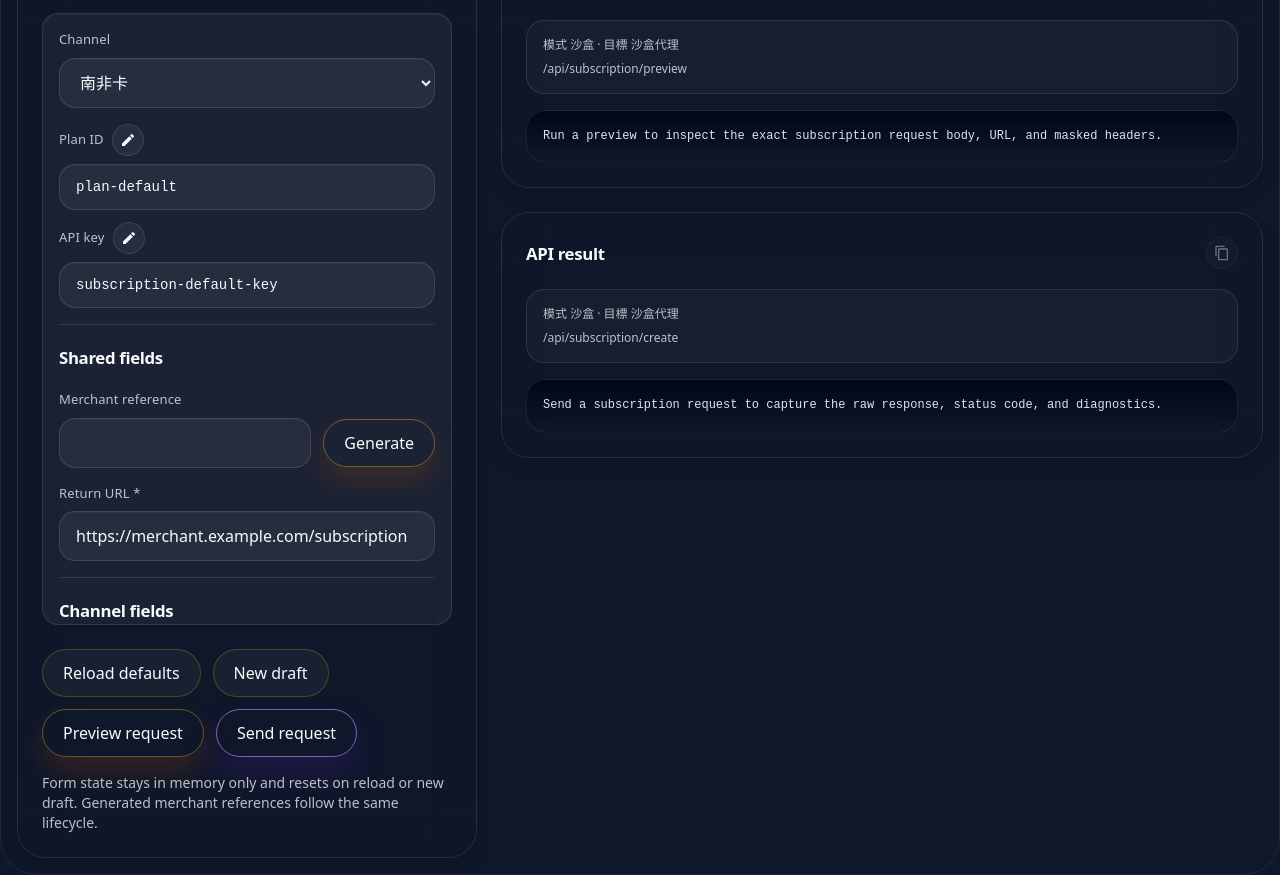
SubscriptionPage › renders preview API failures in the API result panel
(page scrolled)
Click the button "Preview request" at (123, 733), box [42,709,204,757]
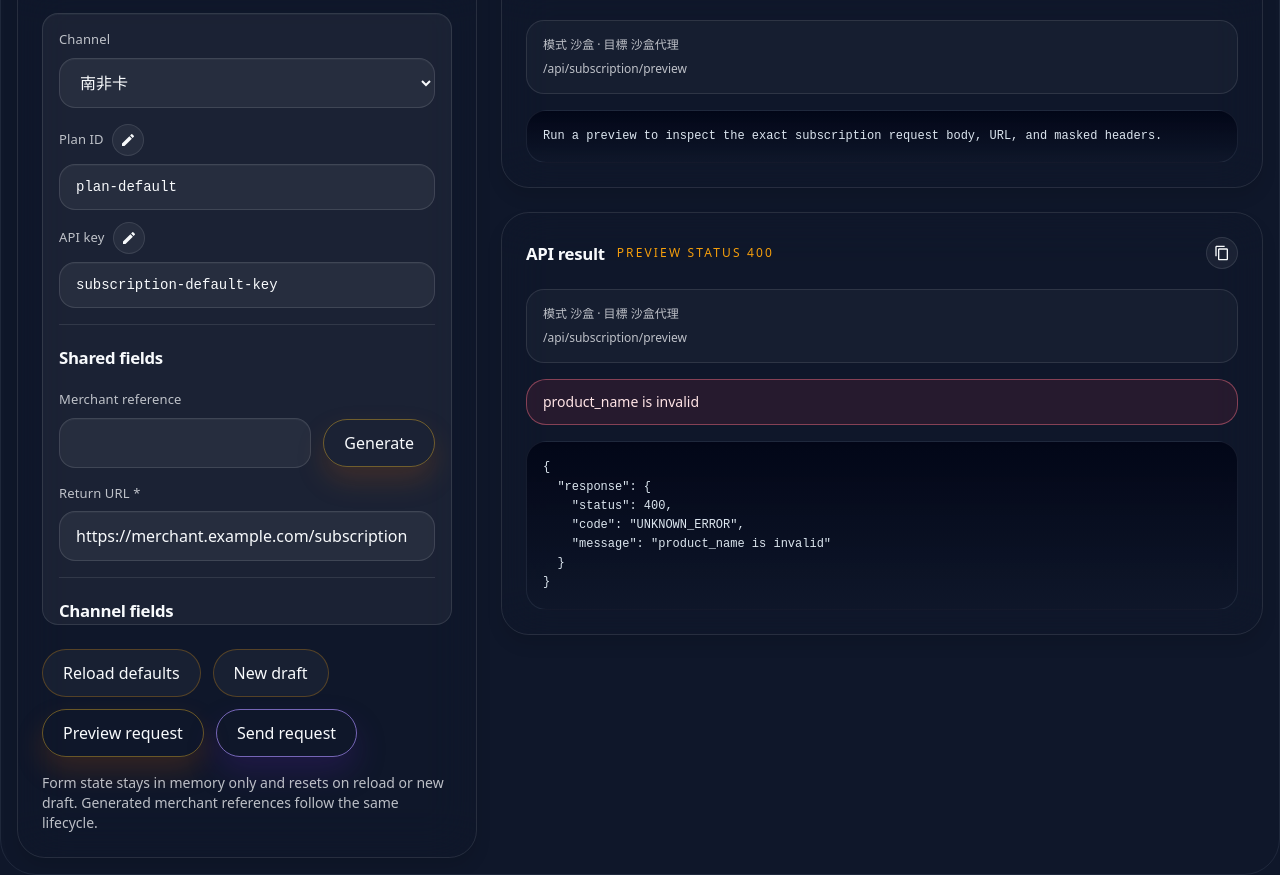
expect the text "product_name is invalid" is shown: met, box [543,392,699,411]
expect the text "PREVIEW Status 400" is shown: met, box [617,245,774,261]
